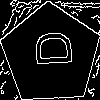D: (26, 29, 72, 68)
